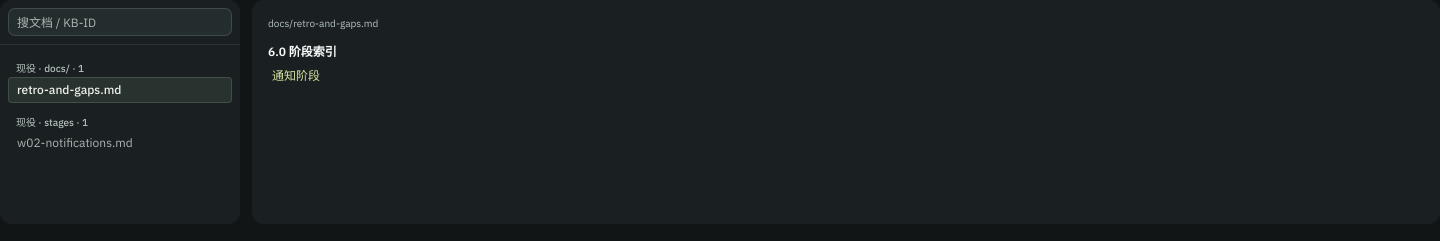
Test: 总账打开阶段任务，滚到任务标题，并可返回总账锚点
Click the button "通知阶段".
click(296, 75)  # box [268, 66, 324, 85]
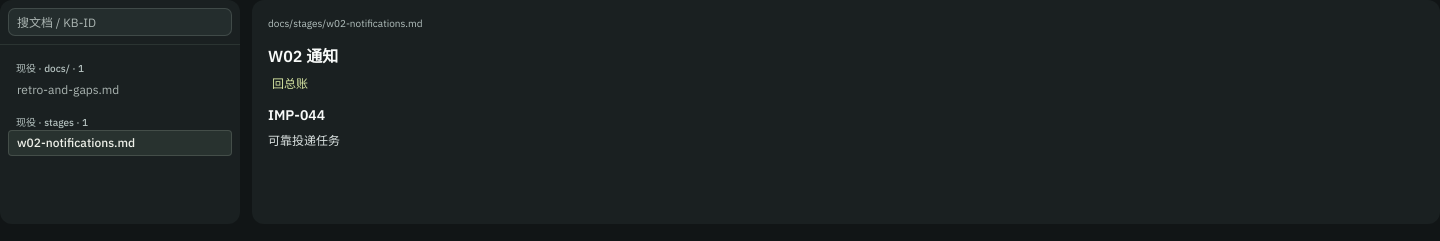
Check: the text "可靠投递任务" is shown, box [268, 133, 340, 148]
Click the button "回总账".
click(290, 83)  # box [268, 74, 312, 93]
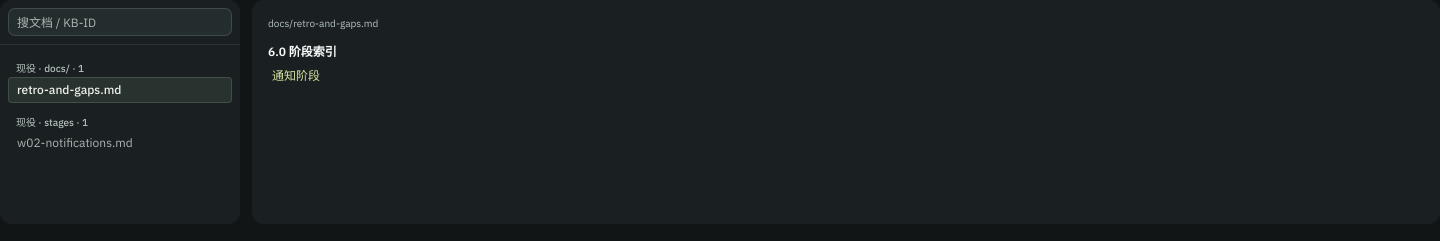
Check: the button "通知阶段" is shown, box [268, 66, 324, 85]
